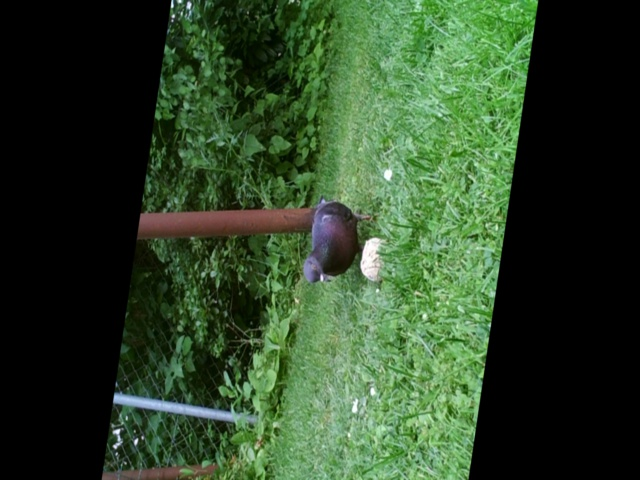Pigeon: (298, 193, 377, 288)
